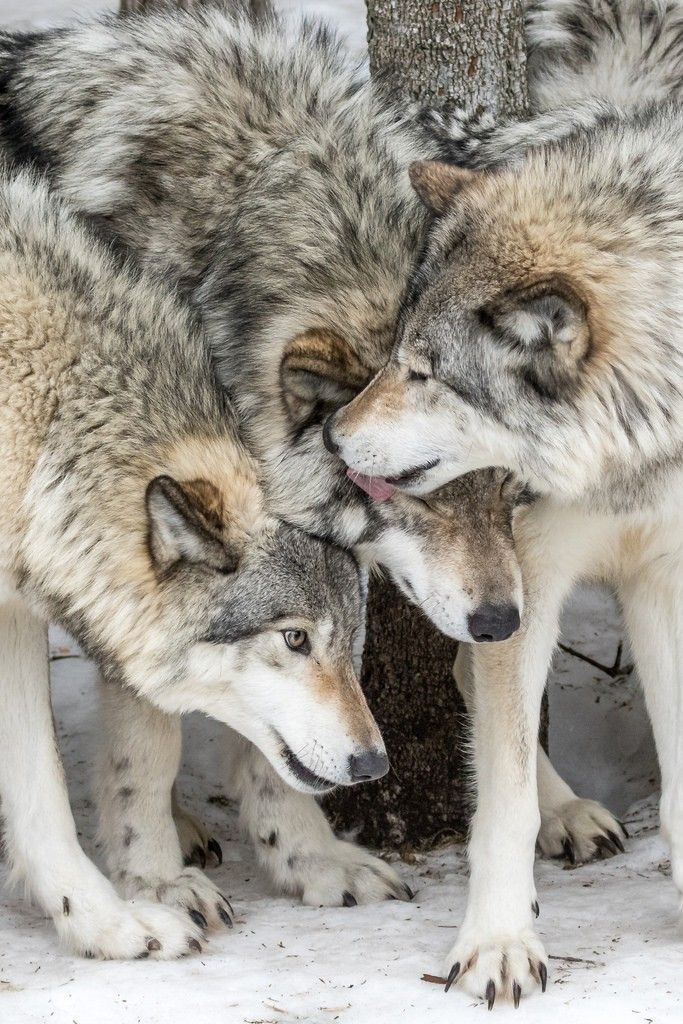Lobo: (57, 414, 424, 848), (329, 109, 674, 528)
